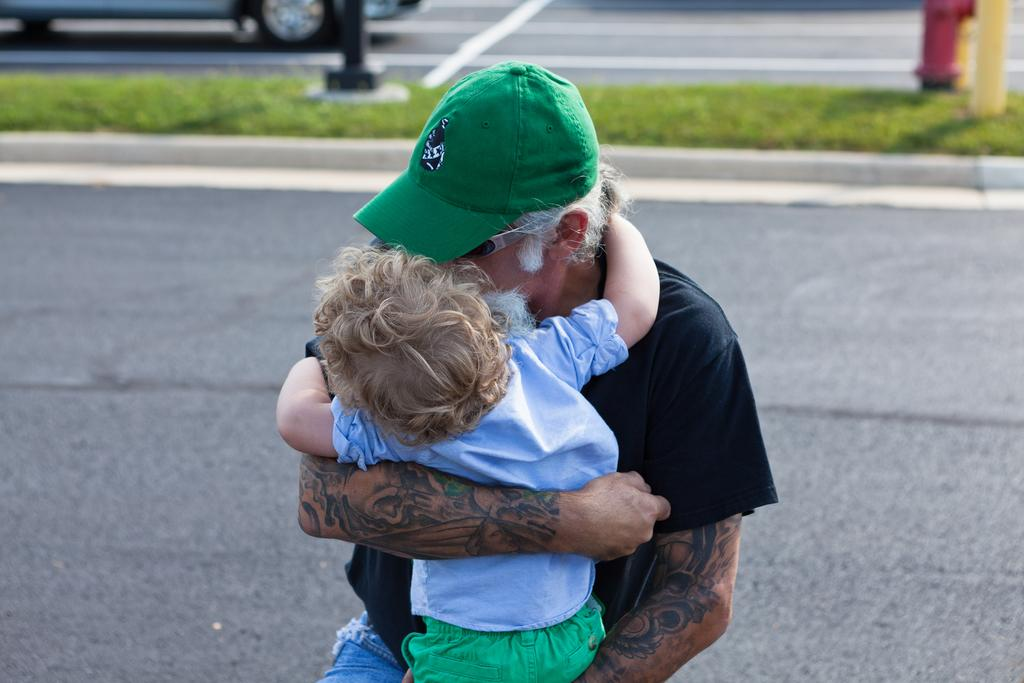Hat: (350, 58, 600, 264)
